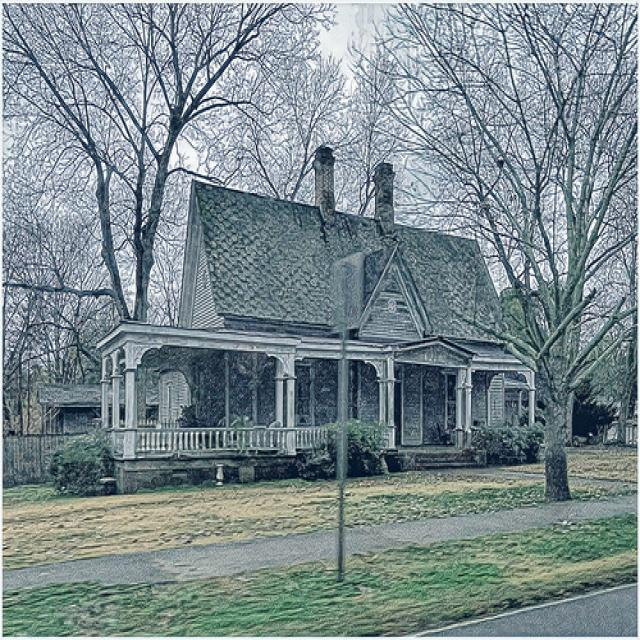Normal_building: (92, 150, 540, 492)
